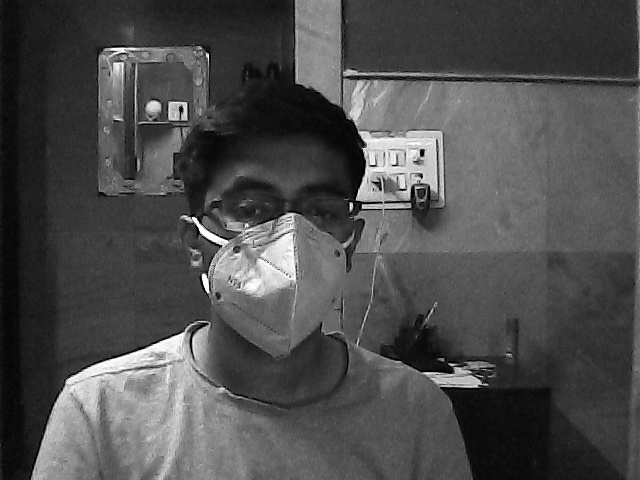mask: (183, 178, 362, 366)
